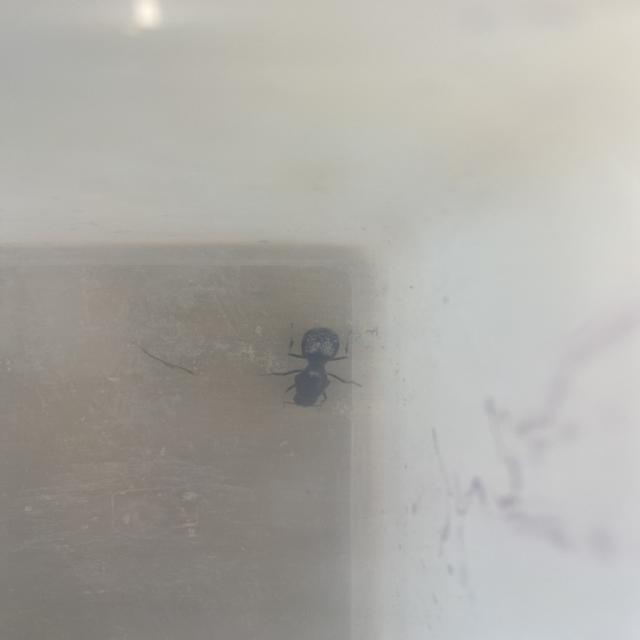Alive-Female-Dealate: (260, 322, 362, 411)
